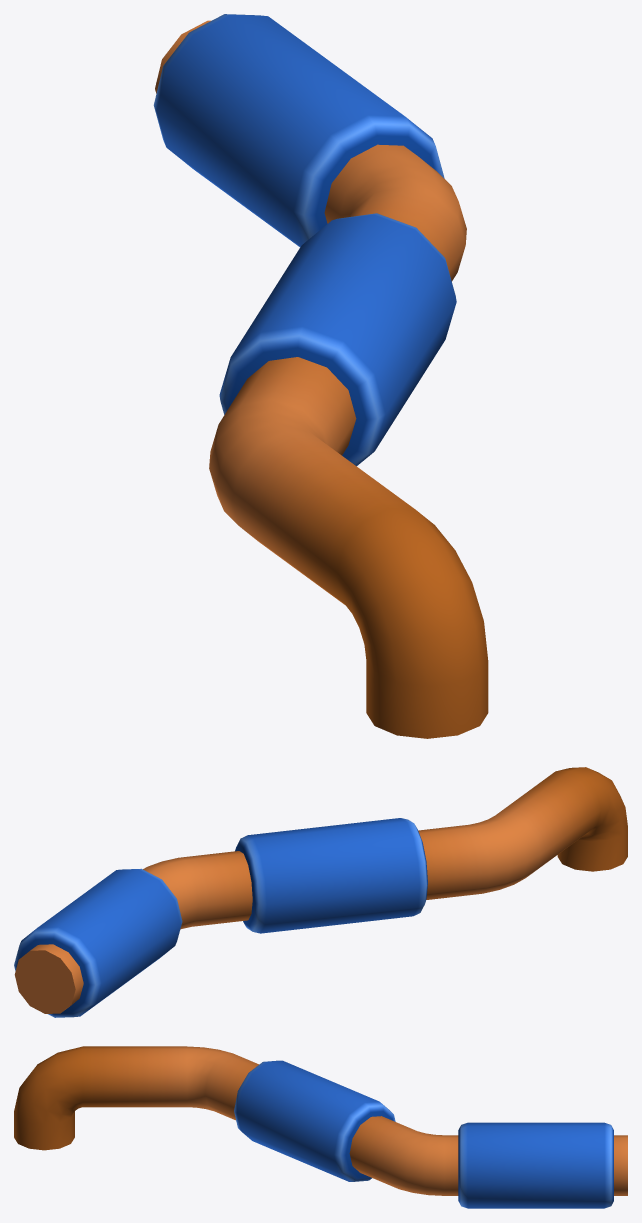
File: pipeside_002.fbx
3 renders of one model, top to bottom at view 1: azimuth 30°, elevation 25°; view 2: azimuth 150°, elevation 25°; view 3: azimuth 270°, elevation 25°, orthographic. The views are drawn at different scales.
Parts seen in each view (by area): view 1: pipeside_002; view 2: pipeside_002; view 3: pipeside_002.
Part boxes in pixels (x1=…): pipeside_002: x1=153, y1=14, x2=488, y2=738; pipeside_002: x1=14, y1=767, x2=627, y2=1017; pipeside_002: x1=14, y1=1046, x2=627, y2=1208.
Size of the model in its own units: 729 by 1578 by 283.
